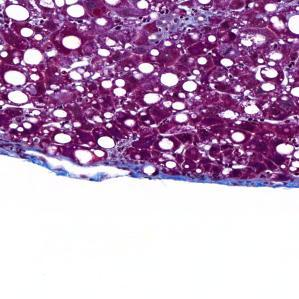fibrosis: (155, 8, 211, 43)
